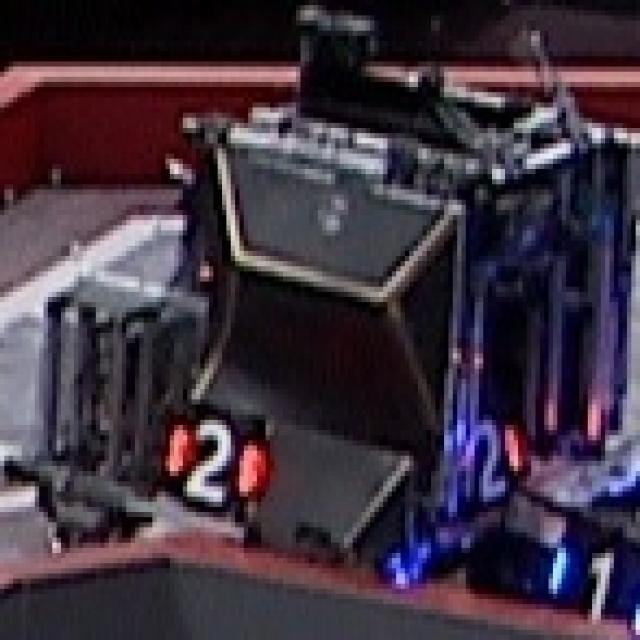R2: (166, 409, 266, 507)
